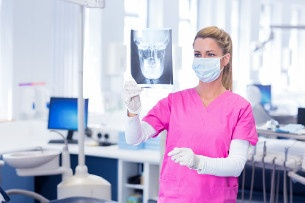Mask: (191, 48, 223, 80)
